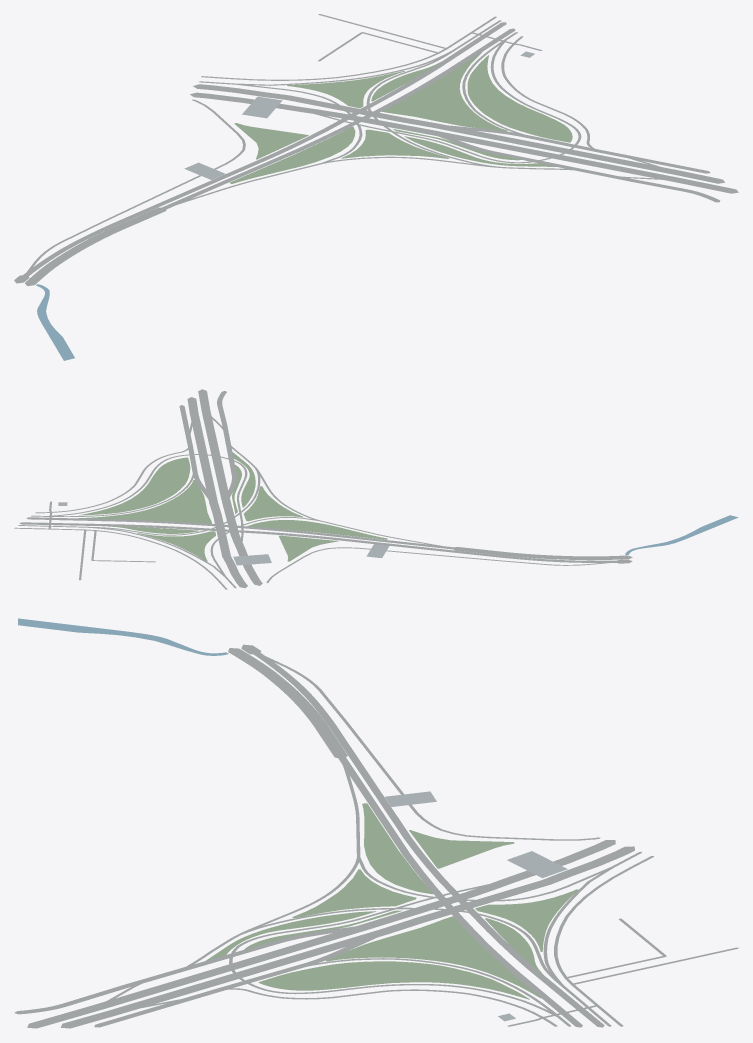
The model's file is -21_29-known-coarse.glb.
The picture shows the model from 3 angles, top to bottom: view 1: azimuth 30°, elevation 25°; view 2: azimuth 150°, elevation 25°; view 3: azimuth 270°, elevation 25°; orthographic projection. The views are drawn at different scales.
Size of the model in its own units: 836 by 0.15 by 624.
